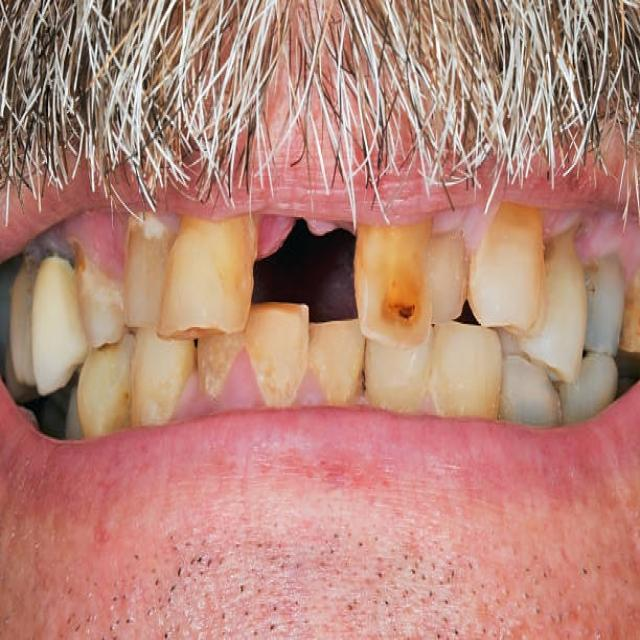caries: (369, 270, 428, 350), (31, 233, 76, 278), (64, 228, 99, 284)
